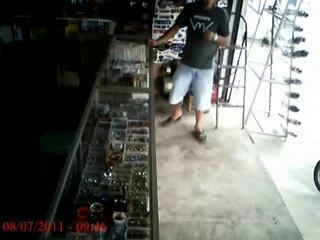Normal: (147, 0, 231, 142)
